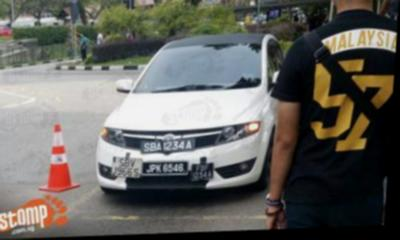License_Plate: (140, 138, 195, 152)
